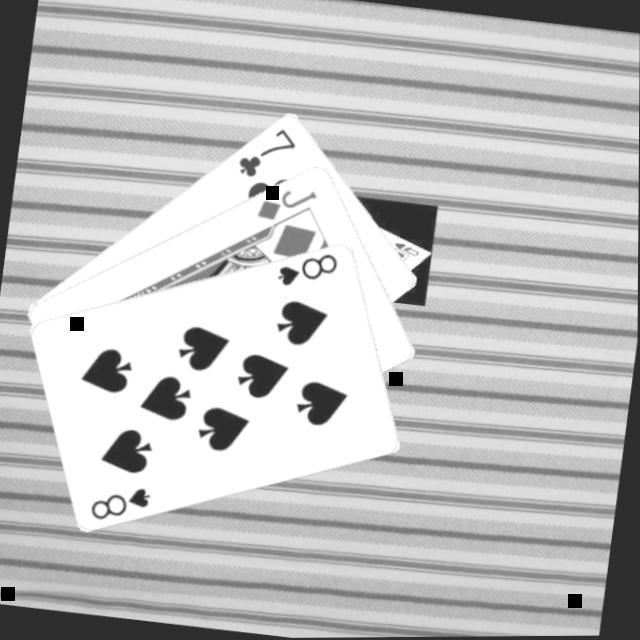7C: (230, 117, 298, 183)
8S: (83, 475, 154, 526), (271, 241, 340, 292)
JD: (250, 178, 319, 226)
